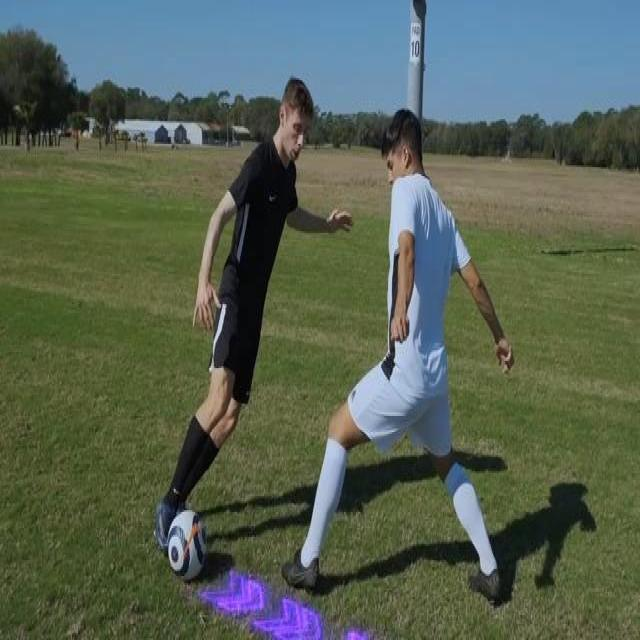Soccer Ball: (166, 508, 210, 588)
